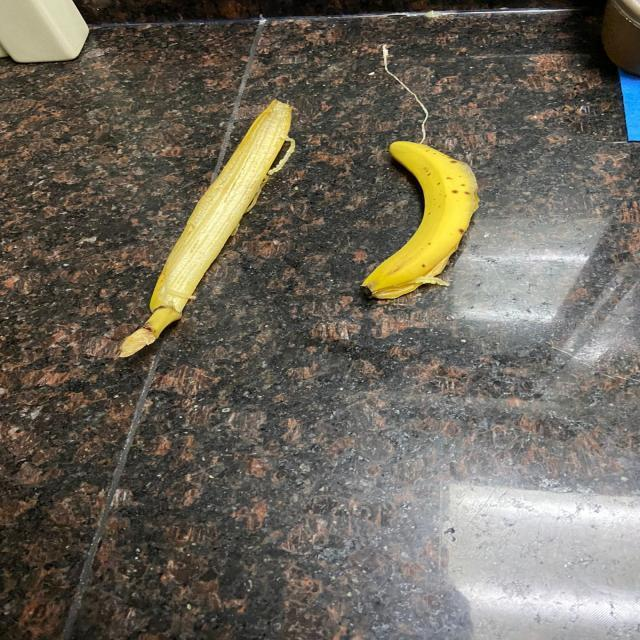banana-peel: (116, 97, 295, 359), (359, 138, 479, 301)
